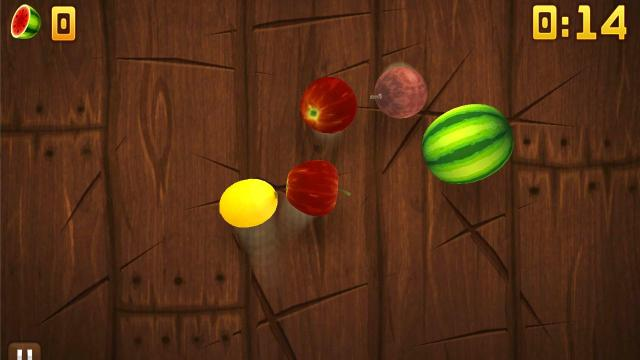fruit: (422, 105, 514, 184), (300, 76, 358, 134), (372, 64, 430, 120), (286, 158, 340, 216), (218, 178, 278, 228)
ignore: (10, 3, 42, 41)
